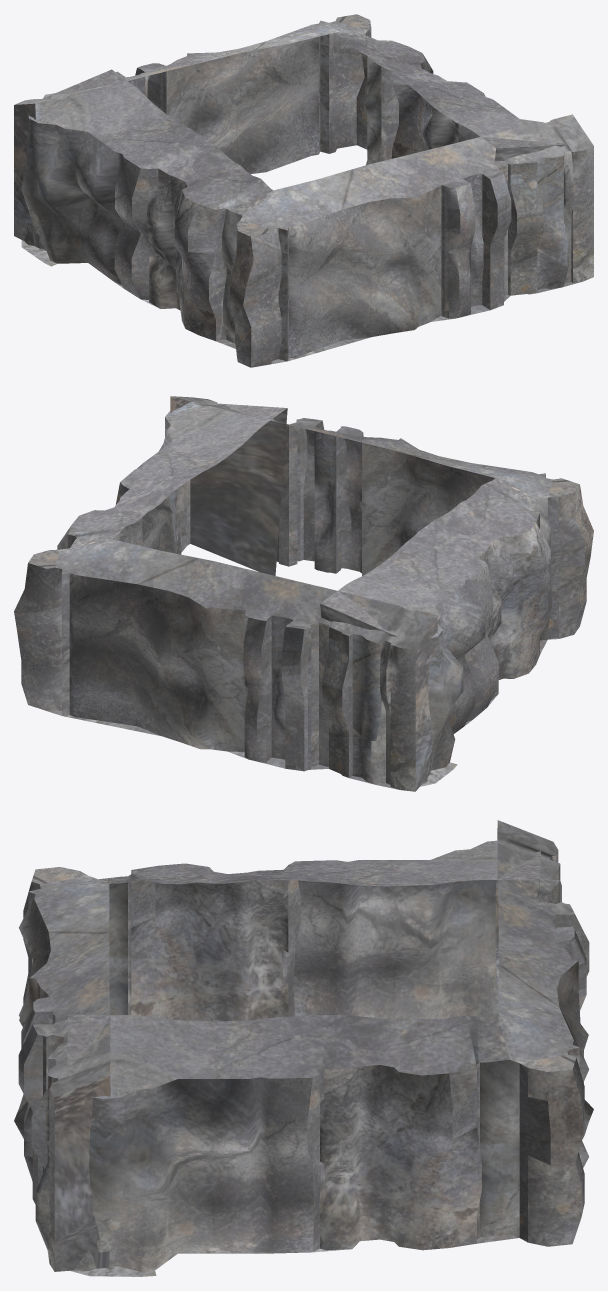
Rendered from Canyon0.FBX.
3 views of the same model, one above another, from view 1: azimuth 30°, elevation 25°; view 2: azimuth 150°, elevation 25°; view 3: azimuth 270°, elevation 25° (orthographic). The views are drawn at different scales.
Size of the model in its own units: 1205 by 416 by 1092.
